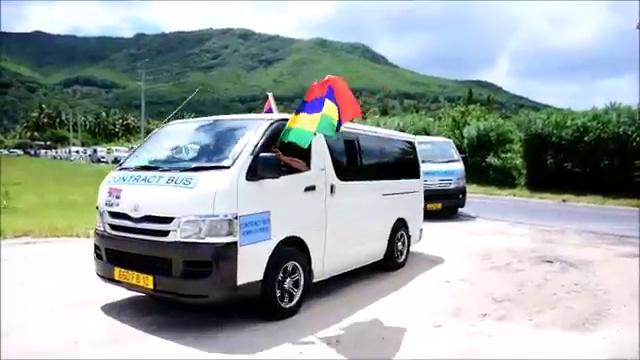Van: (91, 111, 430, 319)
